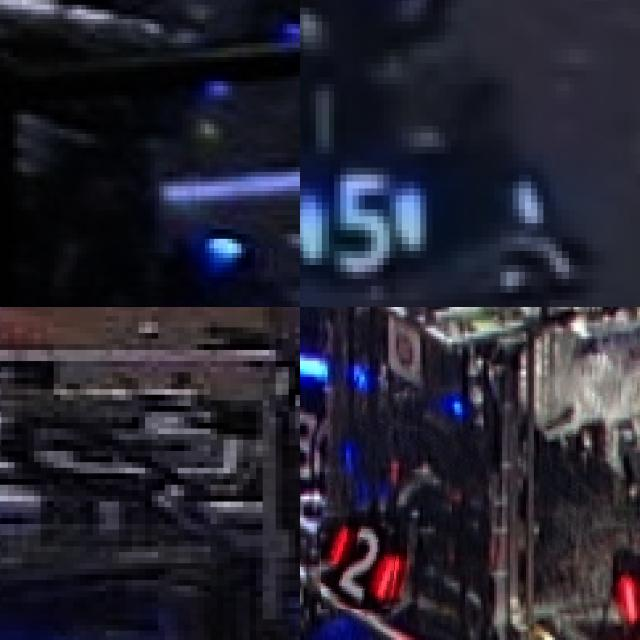B3: (300, 409, 360, 488)
B5: (300, 167, 426, 258)
R2: (321, 517, 400, 609), (608, 546, 640, 638)
